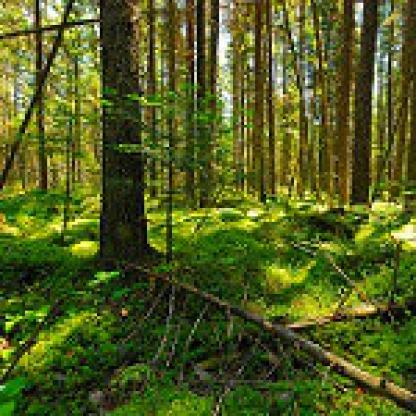trunk: (97, 0, 164, 272), (349, 0, 380, 205), (197, 0, 223, 203), (30, 0, 50, 194), (266, 0, 278, 200)
